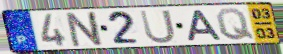2: (107, 8, 144, 47)
4: (39, 12, 68, 48)
A: (186, 9, 224, 42)
N: (65, 10, 106, 48)
Q: (214, 7, 256, 42)
U: (138, 9, 178, 45)
